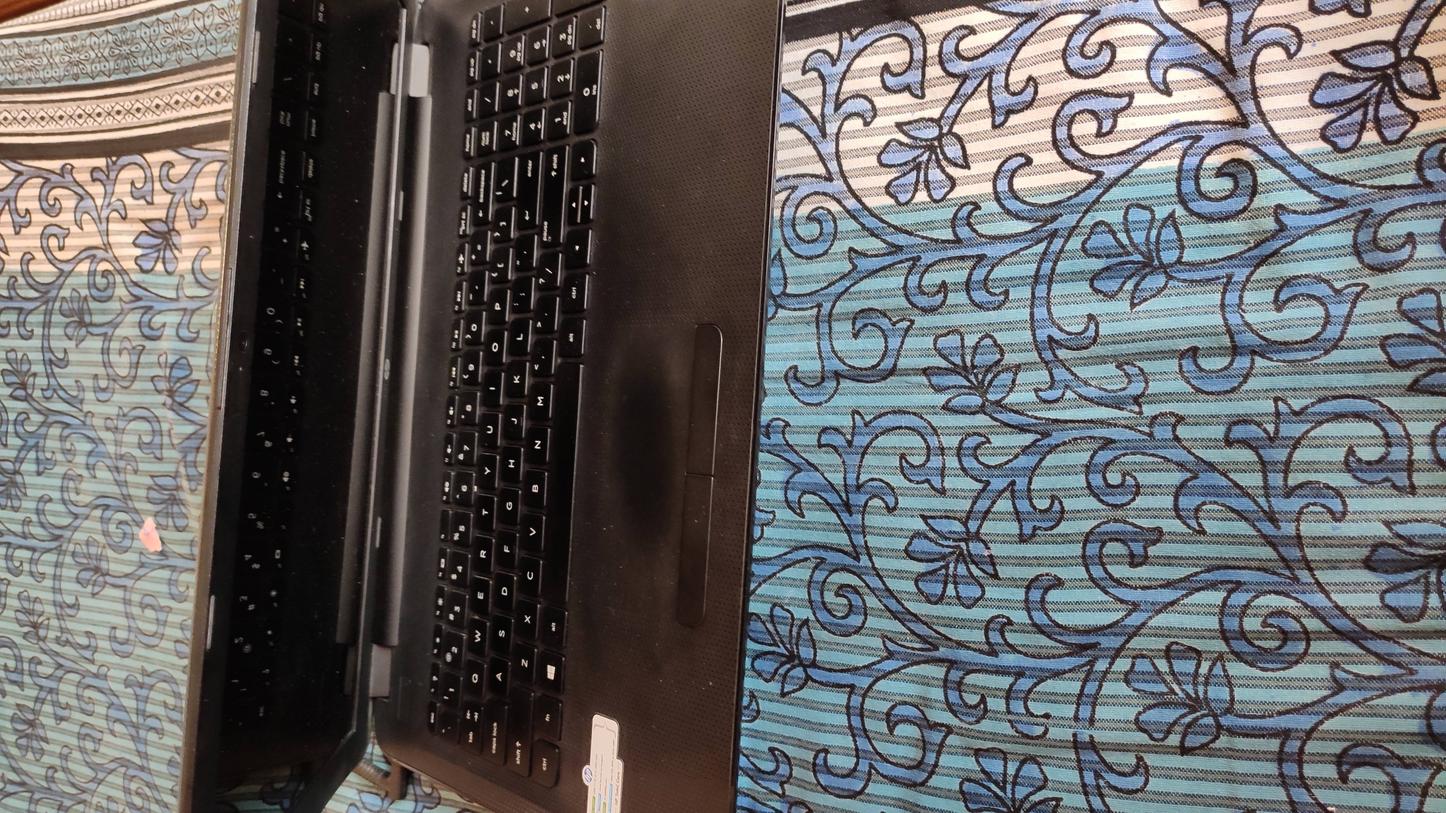Electronics: (155, 0, 808, 813)
